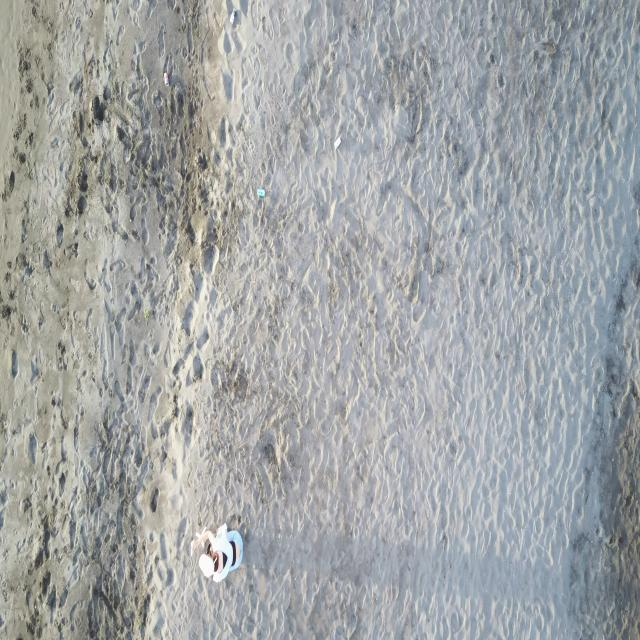Garbage: (191, 524, 240, 580), (228, 9, 235, 24), (333, 136, 340, 148), (163, 71, 168, 84), (256, 187, 263, 196)
